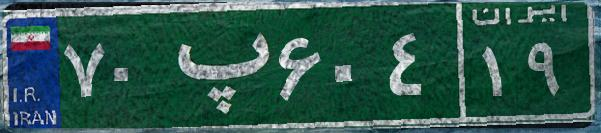0: (330, 28, 385, 110), (110, 28, 158, 105)
1: (475, 38, 525, 113)
4: (385, 28, 445, 110)
6: (273, 28, 330, 110)
7: (57, 26, 110, 107)
9: (525, 38, 570, 115)
پ: (158, 15, 273, 115)
